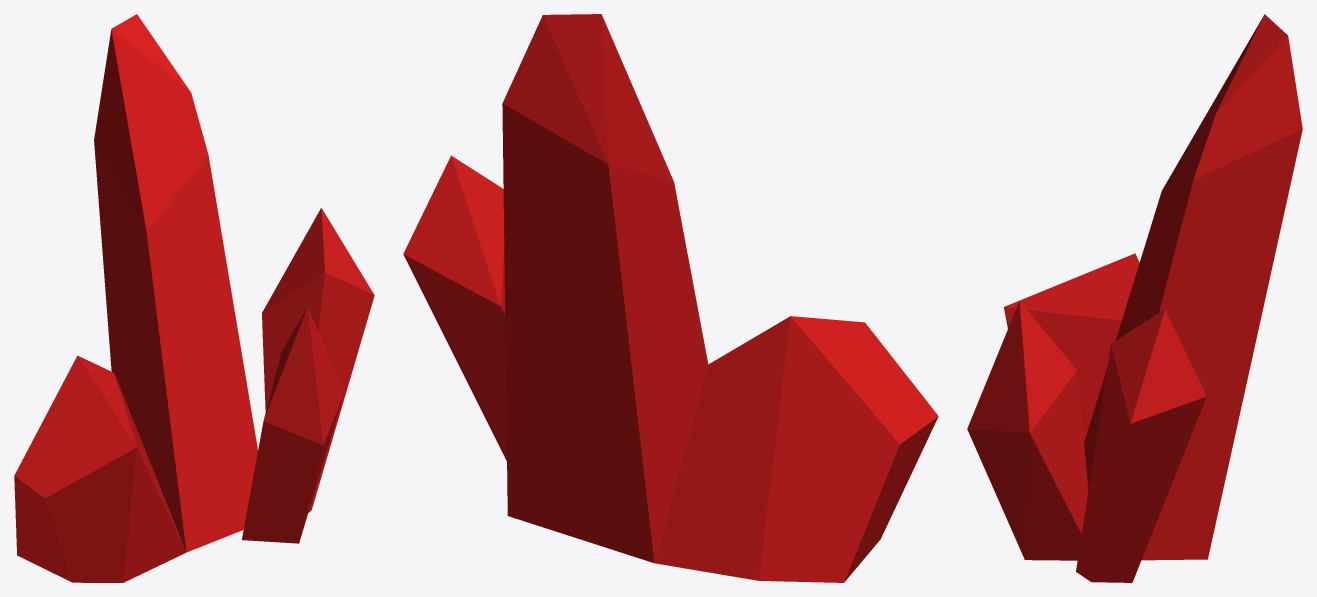
File: Crystal-D02.fbx
3 renders of one model, left to right at view 1: azimuth 30°, elevation 25°; view 2: azimuth 150°, elevation 25°; view 3: azimuth 270°, elevation 25°, orthographic. The views are drawn at different scales.
Visible parts, largest first — view 1: Crystal-D02; view 2: Crystal-D02; view 3: Crystal-D02.
Part boxes in pixels (box(x1,y1,x2,y2)): Crystal-D02: box(14, 14, 374, 582); Crystal-D02: box(403, 14, 938, 582); Crystal-D02: box(967, 14, 1302, 582).
Bounding box in the file's own units: 169 × 199 × 120.
